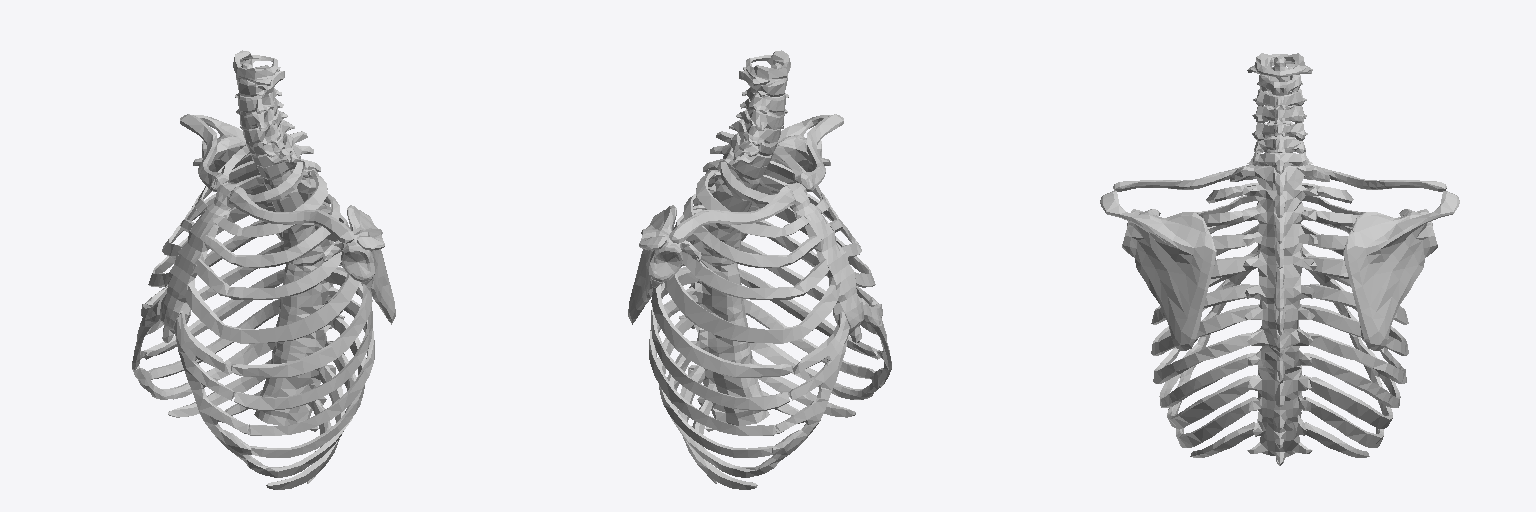
The model's file is tronco2.obj.
3 views of the same model, side by side, from view 1: azimuth 30°, elevation 25°; view 2: azimuth 150°, elevation 25°; view 3: azimuth 270°, elevation 25° (orthographic).
Visible parts, largest first — view 1: t.136, t.177, t.137, t.162, t.148, t.222, t.229, t.231, t.067, t.150, t.212, t.226 (+23 smaller); view 2: t.135, t.206, t.137, t.215, t.213, t.139, t.217, t233, t.072, t.235, t.221, t.224 (+24 smaller); view 3: t.078, t.084, t.149, t.138, t.172, t.145, t.011, t.076, t.221, t.212, ZS4LPXG6YK0BQ2AQRO7EQL8R7.188, t.205 (+18 smaller).
Part boxes in pixels (bbox=[...]): t.136: bbox=[258, 259, 347, 431]; t.177: bbox=[174, 311, 251, 460]; t.137: bbox=[160, 183, 238, 342]; t.162: bbox=[185, 274, 359, 343]; t.148: bbox=[257, 157, 330, 265]; t.222: bbox=[231, 252, 372, 377]; t.229: bbox=[193, 209, 350, 299]; t.231: bbox=[234, 269, 372, 410]; t.067: bbox=[228, 186, 354, 243]; t.150: bbox=[202, 194, 340, 268]; t.212: bbox=[247, 295, 374, 435]; t.226: bbox=[250, 318, 365, 457]; t.135: bbox=[676, 260, 765, 431]; t.206: bbox=[772, 311, 849, 460]; t.137: bbox=[785, 183, 863, 342]; t.215: bbox=[664, 274, 839, 343]; t.213: bbox=[651, 252, 792, 377]; t.139: bbox=[693, 157, 766, 265]; t.217: bbox=[673, 209, 830, 299]; t233: bbox=[651, 269, 789, 410]; t.072: bbox=[669, 186, 795, 243]; t.235: bbox=[683, 194, 821, 268]; t.221: bbox=[649, 295, 776, 435]; t.224: bbox=[658, 318, 773, 457]; t.078: bbox=[1346, 222, 1437, 350]; t.084: bbox=[1122, 222, 1213, 350]; t.149: bbox=[1245, 300, 1279, 465]; t.138: bbox=[1280, 165, 1317, 311]; t.172: bbox=[1280, 300, 1314, 465]; t.145: bbox=[1242, 165, 1279, 311]; t.011: bbox=[1132, 212, 1215, 264]; t.076: bbox=[1344, 212, 1427, 264]; t.221: bbox=[1307, 332, 1406, 383]; t.212: bbox=[1153, 332, 1252, 383]; ZS4LPXG6YK0BQ2AQRO7EQL8R7.188: bbox=[1167, 375, 1255, 428]; t.205: bbox=[1304, 375, 1392, 428].
Bounding box in the file's own units: 0.3471 × 0.6947 × 0.574.